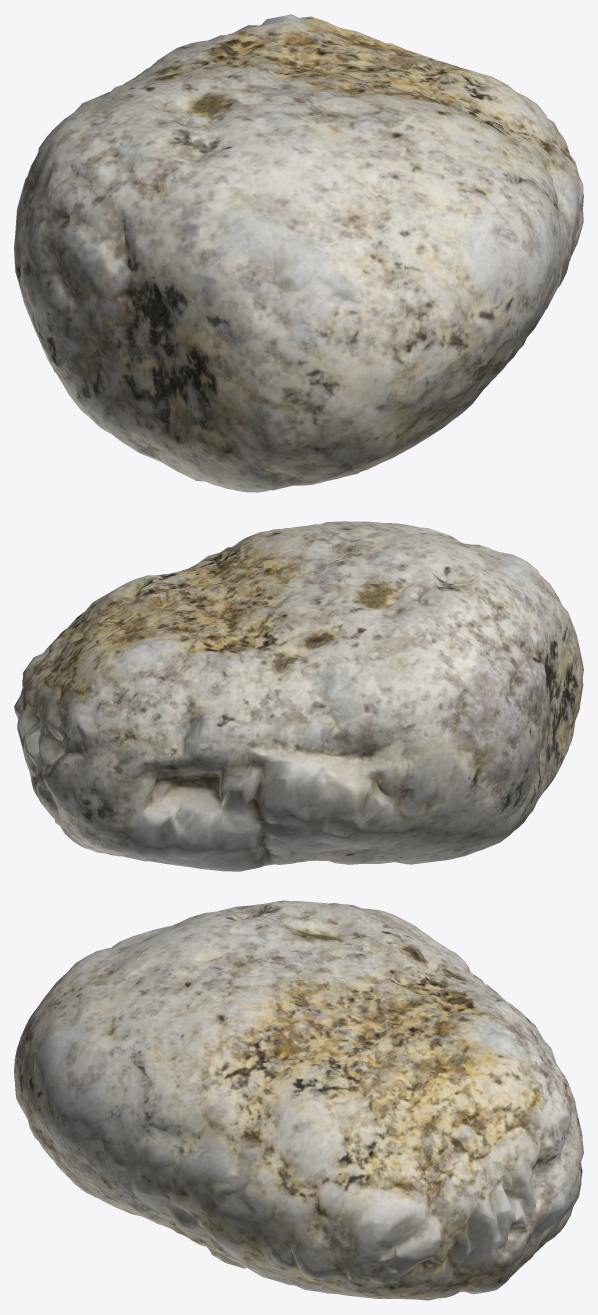
The picture shows the model from 3 angles, top to bottom: view 1: azimuth 30°, elevation 25°; view 2: azimuth 150°, elevation 25°; view 3: azimuth 270°, elevation 25°; orthographic projection. The views are drawn at different scales.
Visible parts, largest first — view 1: rock-001; view 2: rock-001; view 3: rock-001.
Boxes of the visible parts, x1=… form: rock-001: x1=14, y1=14, x2=583, y2=492; rock-001: x1=14, y1=521, x2=583, y2=871; rock-001: x1=14, y1=900, x2=583, y2=1300.
Bounding box in the file's own units: 1.96 × 1.1 × 2.
1 material, 1 textured.
